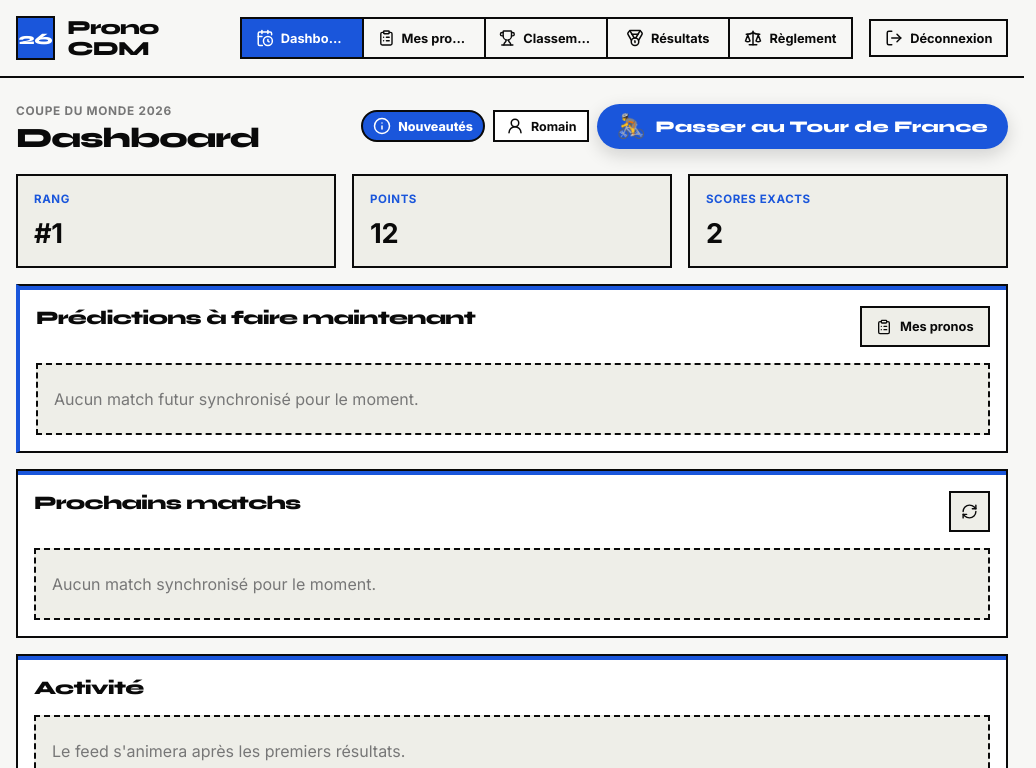
Test: App components › affiche la courbe de progression dans le classement
This screenshot has width=1036, height=768.
expect the heading "Dashboard" is shown: met, box top-left (16, 123), bottom-right (259, 154)
Click the button "Classement".
click(547, 38)  # box top-left (486, 19), bottom-right (608, 57)
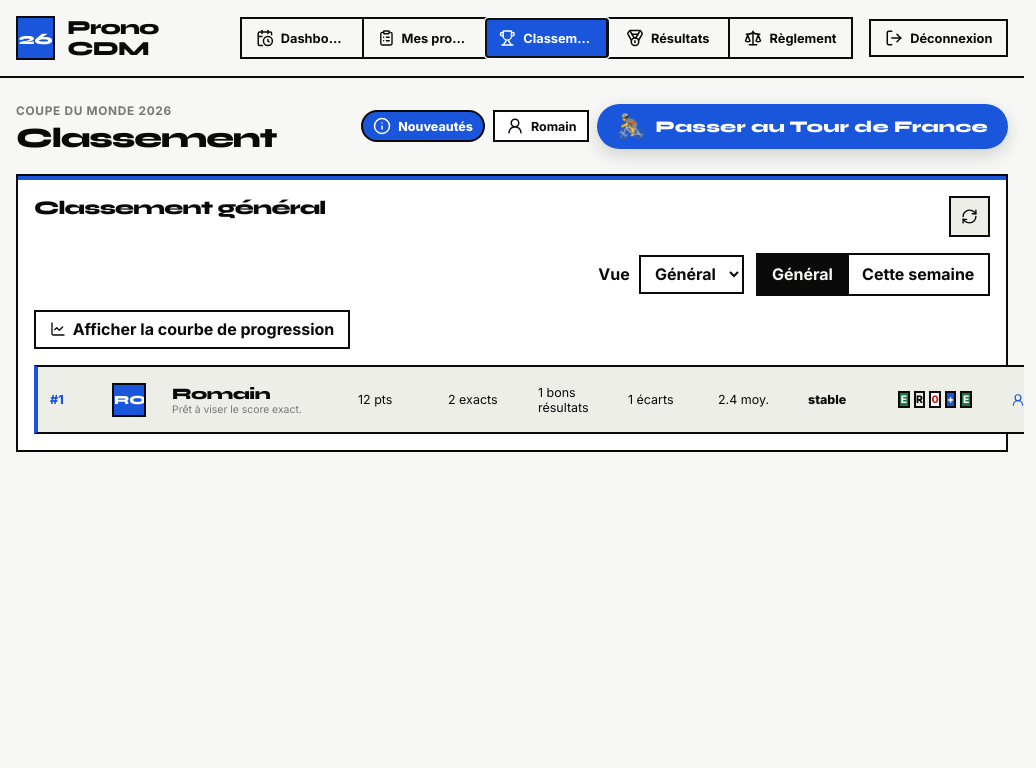
expect the text "Progression des points" is not shown: met
Note: On l'affiche via le bouton dédié.
Click the button "Afficher la courbe de progression".
click(192, 329)  # box top-left (34, 310), bottom-right (350, 349)
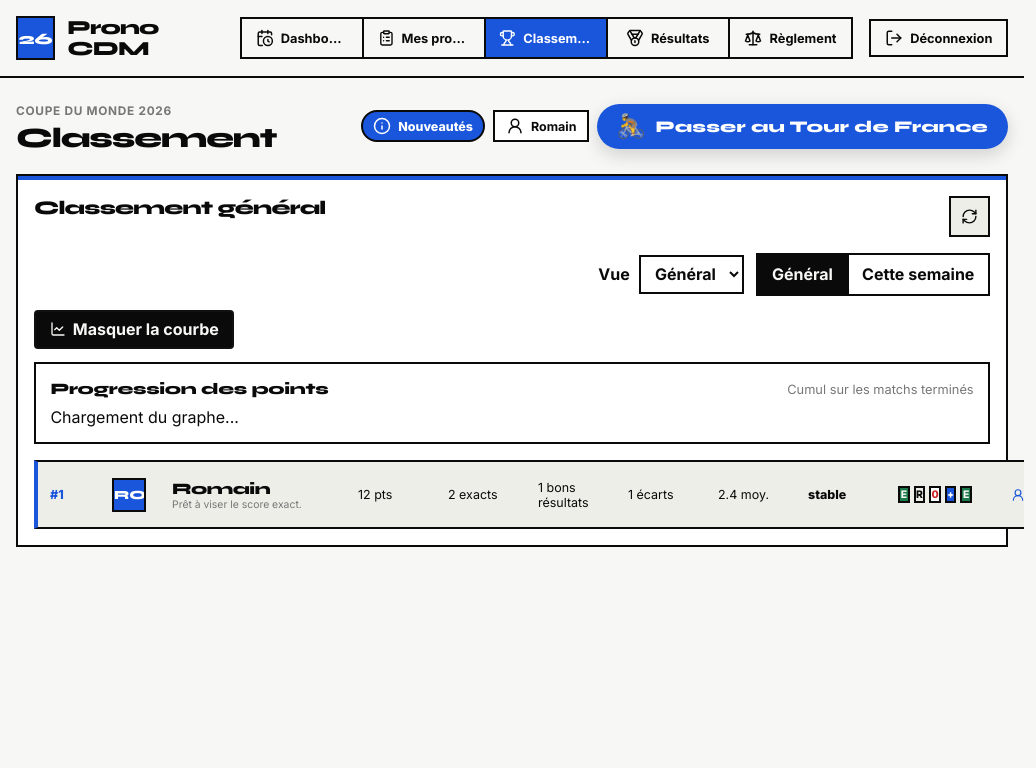
expect the heading "Progression des points" is shown: met, box top-left (50, 379), bottom-right (328, 398)
expect the text "Cumul sur les matchs terminés" is shown: met, box top-left (787, 382), bottom-right (974, 397)
Note: Et on peut la masquer à nouveau.
Click the button "Masquer la courbe".
click(134, 329)  # box top-left (34, 310), bottom-right (234, 349)
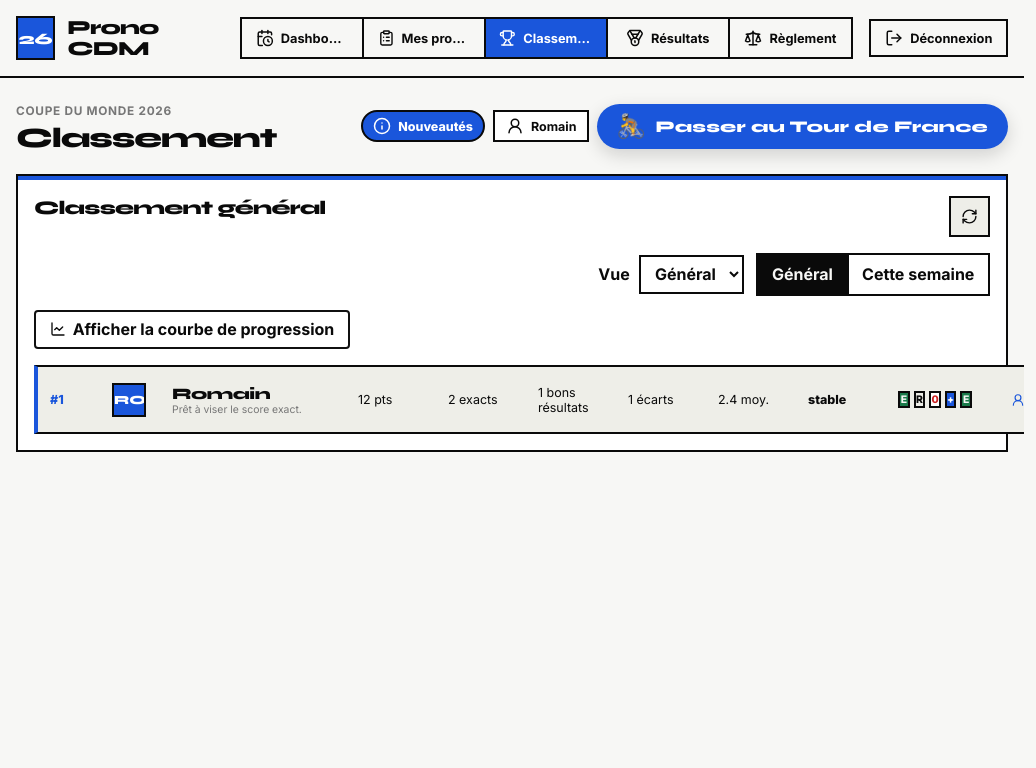
expect the heading "Progression des points" is gone: met
